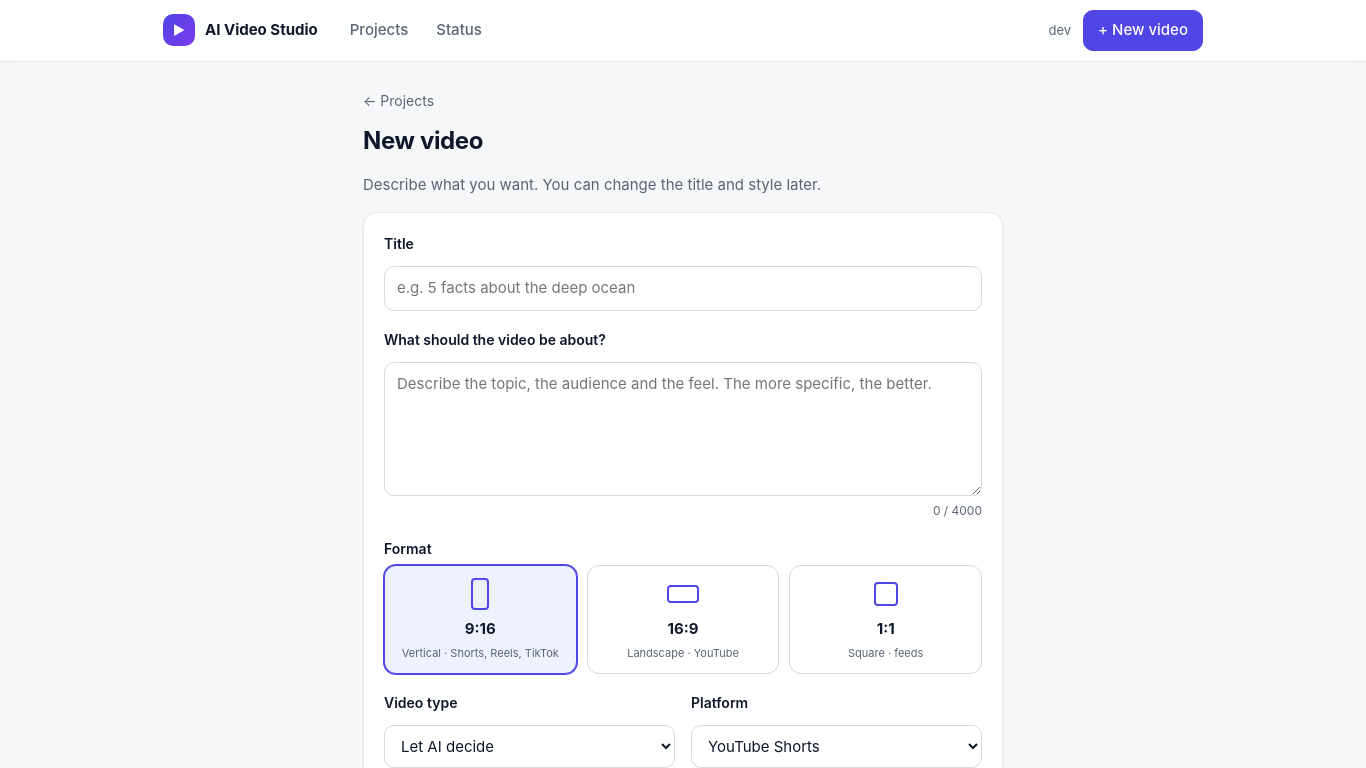
Test: new project form › shows the server's error message
In the field labelled "Title": (683, 288) [384,266,982,310], type "T"
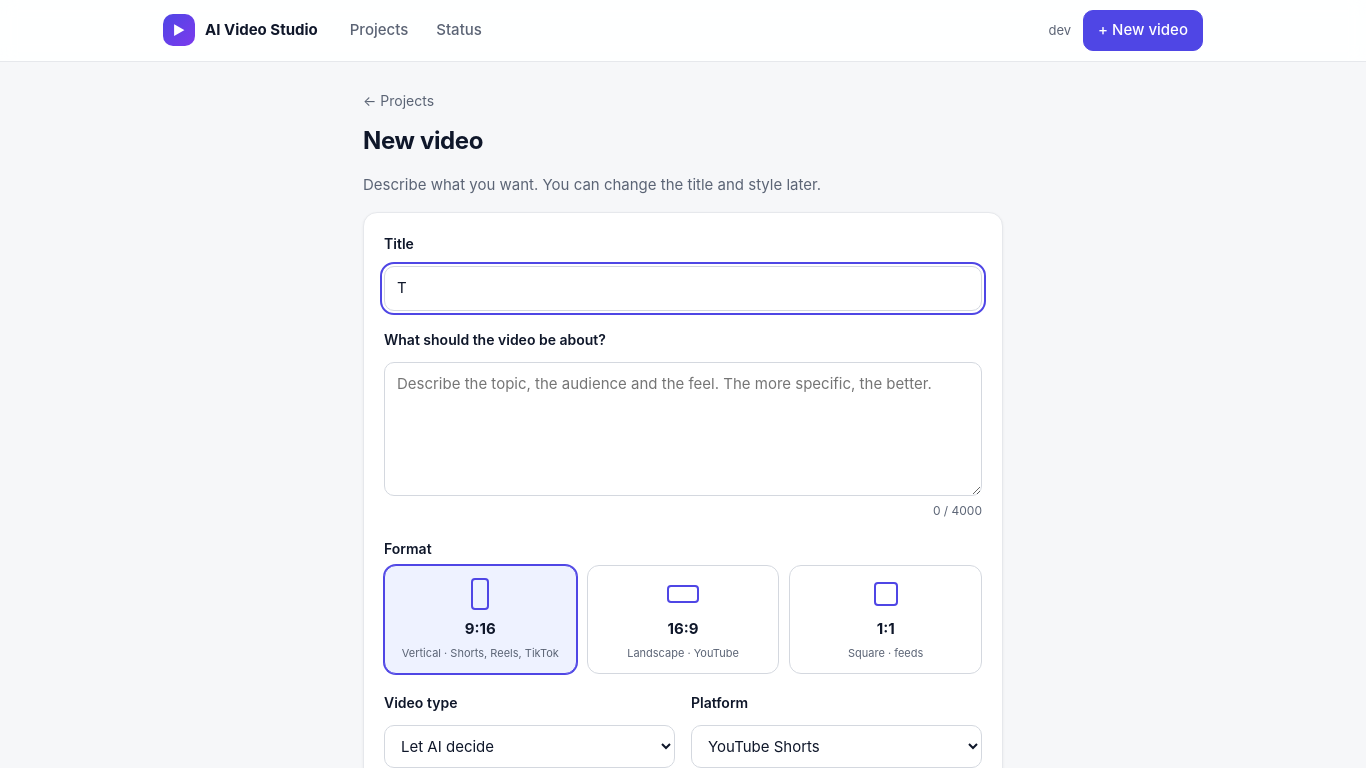
In the text box labelled "What should the video be about?": (683, 429) [384,362,982,496], type "P"
(page scrolled)
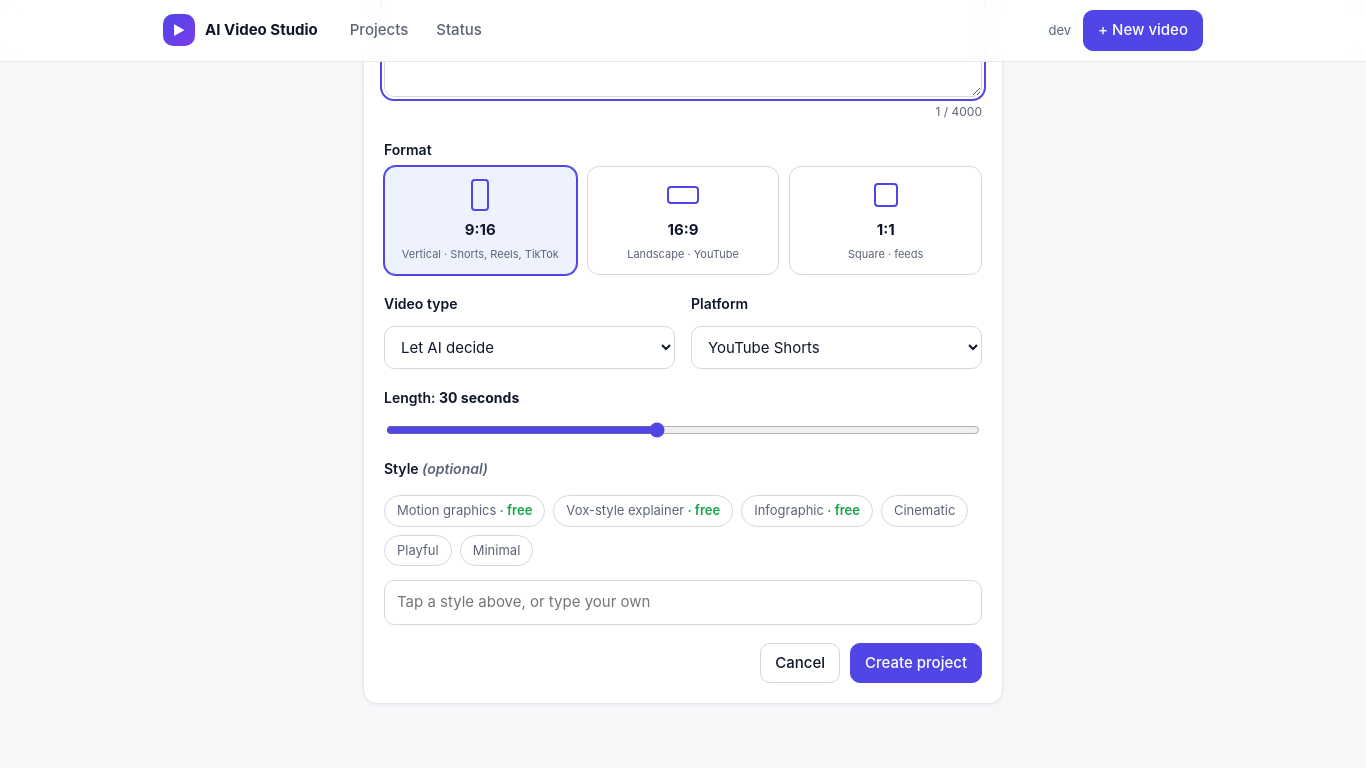
Click the button "Create project": (916, 663) [850,642,982,683]
(page scrolled)
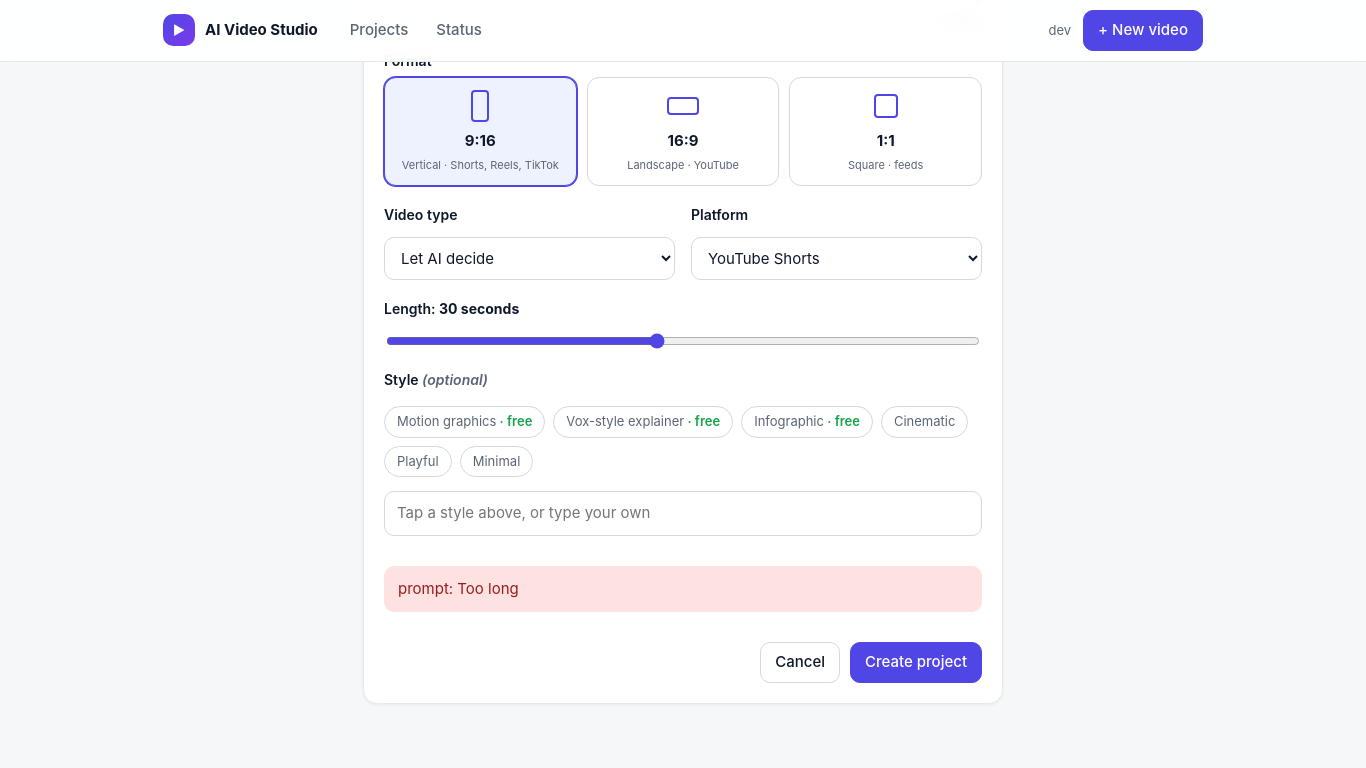
Now the text "prompt: Too long" is shown, box [398,578,519,600]
